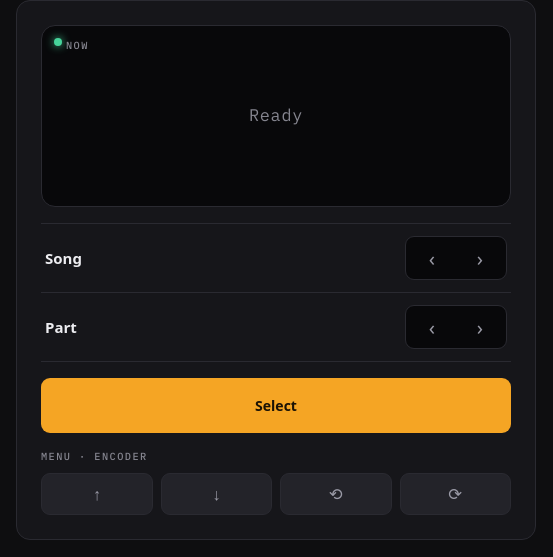
Test: Control surface › renders the device readout, one line per ' - ' segment
Click the button "Select" at (276, 406), box [41,378,511,433]
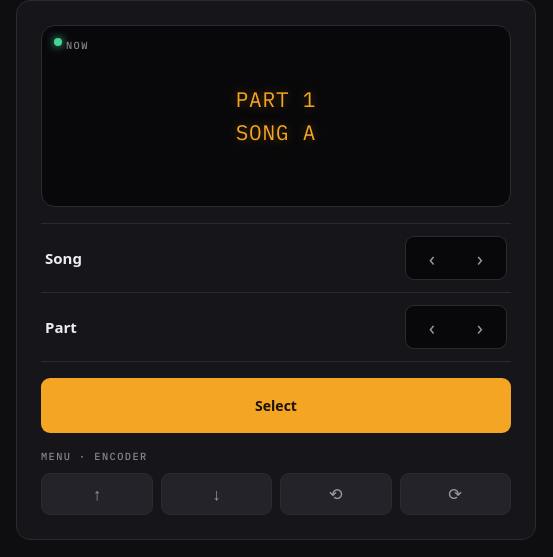
Result: the text "PART 1" is shown at [236,84,316,115]
Result: the text "SONG A" is shown at [236,117,316,148]
